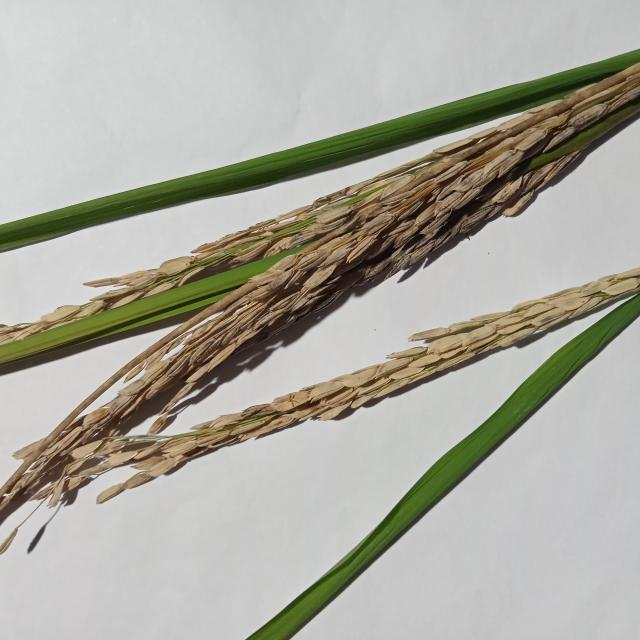Neck_Blast: (0, 73, 640, 504), (96, 264, 640, 504)
